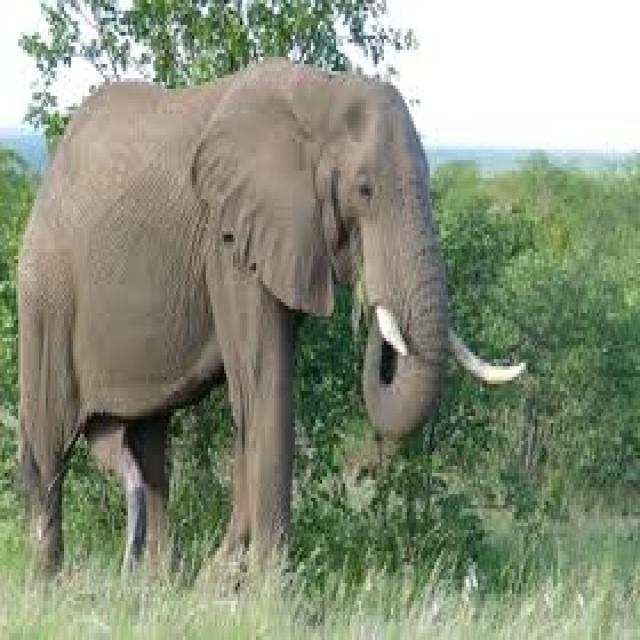Elephant: (13, 53, 526, 598)
